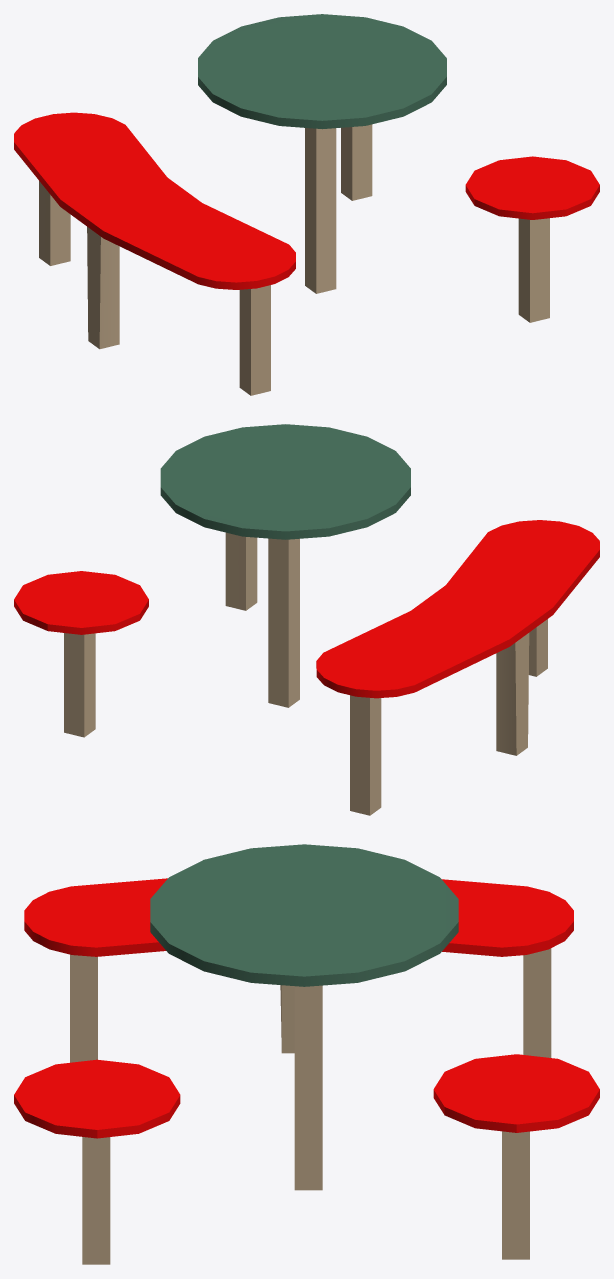
Rendered from SM_Table_02.fbx.
3 renders of one model, top to bottom at view 1: azimuth 30°, elevation 25°; view 2: azimuth 150°, elevation 25°; view 3: azimuth 270°, elevation 25°, orthographic. The views are drawn at different scales.
Visible parts, largest first — view 1: SM_Table_02; view 2: SM_Table_02; view 3: SM_Table_02.
Part boxes in pixels (<box>): SM_Table_02: <box>14,14,599,395</box>; SM_Table_02: <box>14,424,599,815</box>; SM_Table_02: <box>14,844,599,1264</box>.
Size of the model in its own units: 133 by 65.94 by 128.
1 material, 1 textured.
